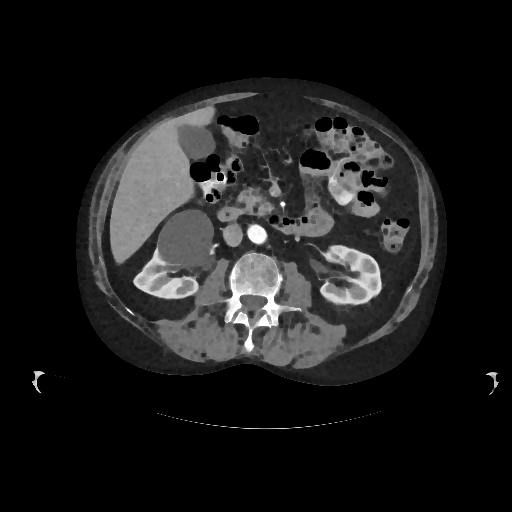Lesion: (153, 203, 216, 264)
